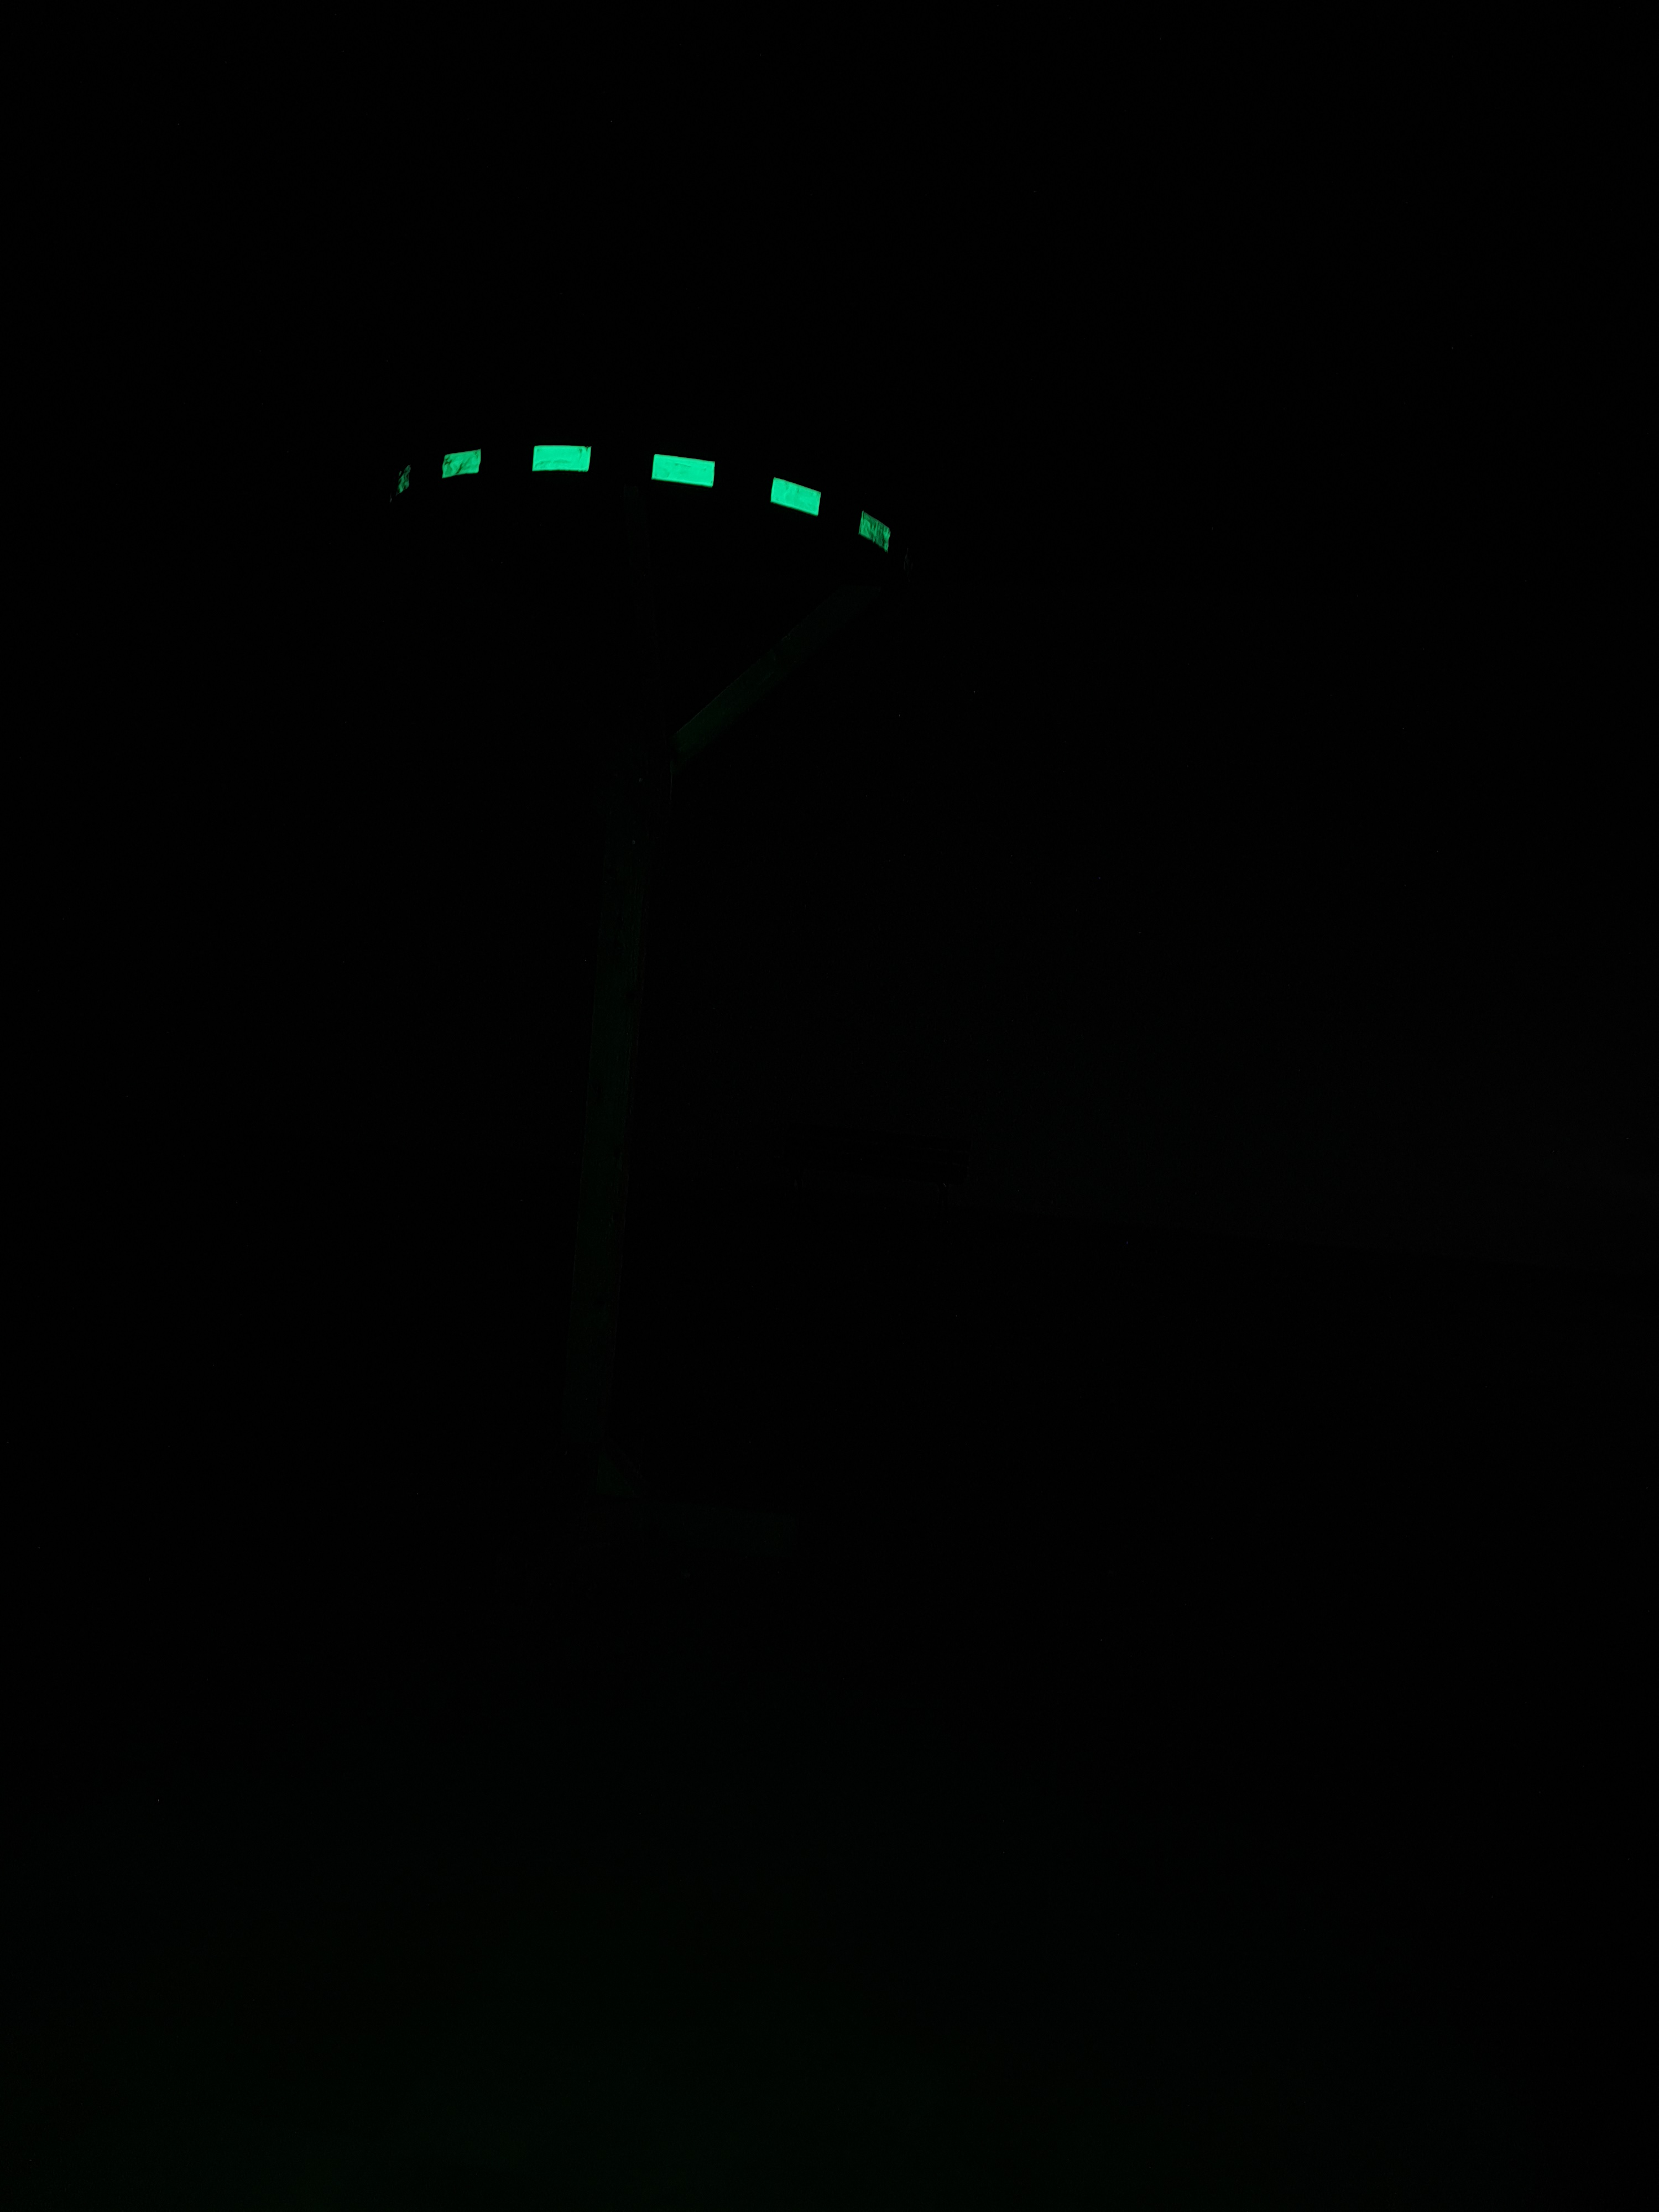hoop: (385, 437, 894, 566)
